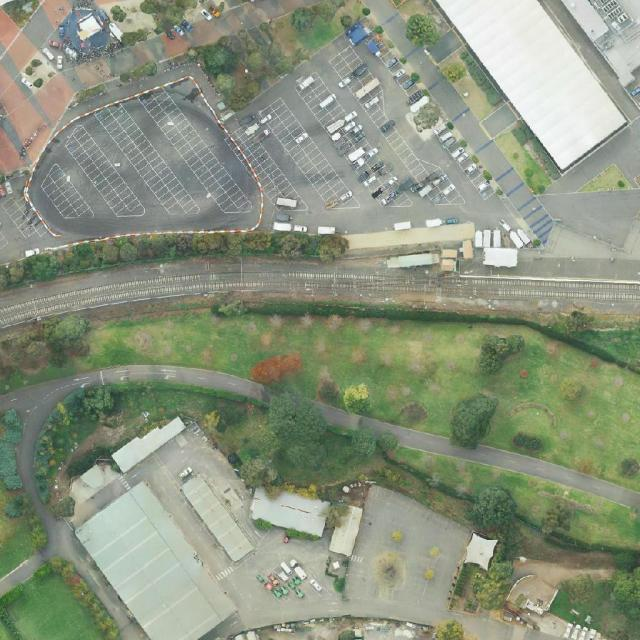building: (73, 480, 237, 640), (179, 472, 255, 563), (110, 410, 188, 474), (248, 485, 330, 536), (65, 456, 122, 506), (328, 502, 364, 557)
greenland: (69, 236, 640, 491), (35, 381, 290, 493), (212, 286, 595, 336), (181, 0, 308, 120), (294, 419, 391, 520), (46, 550, 126, 640), (472, 521, 522, 612), (269, 392, 326, 470), (550, 329, 640, 373), (444, 387, 500, 453), (455, 49, 504, 107), (40, 315, 91, 366), (535, 497, 582, 543), (471, 484, 519, 529), (351, 428, 398, 457), (406, 13, 442, 48), (286, 3, 320, 36), (342, 383, 372, 415), (26, 561, 54, 587)
metalled_road: (212, 17, 529, 338), (20, 72, 264, 241), (314, 399, 640, 511), (363, 0, 492, 153), (340, 484, 477, 627), (128, 450, 237, 574), (28, 513, 125, 629), (161, 421, 258, 523), (213, 553, 287, 638), (285, 594, 449, 625), (507, 185, 562, 246), (0, 550, 48, 598), (425, 29, 463, 65), (502, 181, 531, 205)
